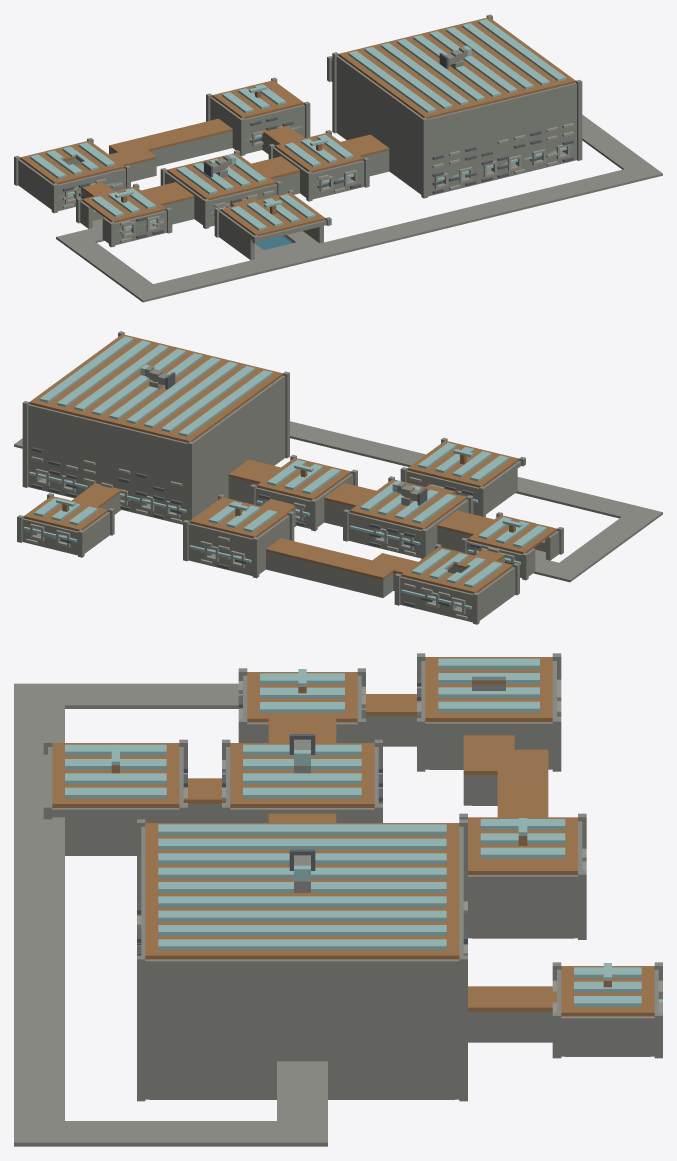
Rendered from cliff_observatory.glb.
3 renders of one model, top to bottom at view 1: azimuth 30°, elevation 25°; view 2: azimuth 150°, elevation 25°; view 3: azimuth 270°, elevation 25°, orthographic. The views are drawn at different scales.
Parts seen in each view (by area): view 1: cliff_observatory/room_walls, cliff_observatory/roof_arena, cliff_observatory/floor_mesh, cliff_observatory/exterior_details, cliff_observatory/corridor_walls, cliff_observatory/roof_workshop, cliff_observatory/roof_cistern, cliff_observatory/roof_production, cliff_observatory/roof_weather_deck, cliff_observatory/roof_antechamber, cliff_observatory/roof_entrance, cliff_observatory/corridor_roof_8 (+4 smaller); view 2: cliff_observatory/room_walls, cliff_observatory/roof_arena, cliff_observatory/exterior_details, cliff_observatory/floor_mesh, cliff_observatory/corridor_walls, cliff_observatory/roof_workshop, cliff_observatory/roof_cistern, cliff_observatory/roof_production, cliff_observatory/roof_weather_deck, cliff_observatory/roof_antechamber, cliff_observatory/corridor_roof_8, cliff_observatory/roof_entrance (+6 smaller); view 3: cliff_observatory/room_walls, cliff_observatory/roof_arena, cliff_observatory/floor_mesh, cliff_observatory/exterior_details, cliff_observatory/roof_workshop, cliff_observatory/roof_cistern, cliff_observatory/roof_production, cliff_observatory/roof_weather_deck, cliff_observatory/corridor_walls, cliff_observatory/roof_entrance, cliff_observatory/roof_archive, cliff_observatory/corridor_roof_8 (+6 smaller).
Part boxes in pixels (x1=…): cliff_observatory/room_walls: x1=18, y1=56, x2=576, y2=260; cliff_observatory/roof_arena: x1=338, y1=17, x2=575, y2=118; cliff_observatory/floor_mesh: x1=56, y1=115, x2=662, y2=302; cliff_observatory/exterior_details: x1=14, y1=14, x2=582, y2=247; cliff_observatory/corridor_walls: x1=81, y1=131, x2=389, y2=224; cliff_observatory/roof_workshop: x1=167, y1=153, x2=275, y2=200; cliff_observatory/roof_cistern: x1=221, y1=192, x2=325, y2=236; cliff_observatory/roof_production: x1=20, y1=140, x2=124, y2=184; cliff_observatory/roof_weather_deck: x1=212, y1=80, x2=303, y2=118; cliff_observatory/roof_antechamber: x1=275, y1=132, x2=362, y2=172; cliff_observatory/roof_entrance: x1=82, y1=186, x2=165, y2=222; cliff_observatory/corridor_roof_8: x1=109, y1=118, x2=232, y2=152; cliff_observatory/room_walls: x1=22, y1=375, x2=559, y2=622; cliff_observatory/roof_arena: x1=29, y1=334, x2=282, y2=442; cliff_observatory/exterior_details: x1=17, y1=331, x2=563, y2=624; cliff_observatory/floor_mesh: x1=14, y1=421, x2=662, y2=608; cliff_observatory/corridor_walls: x1=100, y1=476, x2=505, y2=597; cliff_observatory/roof_workshop: x1=350, y1=479, x2=466, y2=529; cliff_observatory/roof_cistern: x1=407, y1=440, x2=519, y2=487; cliff_observatory/roof_production: x1=401, y1=547, x2=512, y2=593; cliff_observatory/roof_weather_deck: x1=190, y1=497, x2=287, y2=538; cliff_observatory/roof_antechamber: x1=257, y1=457, x2=350, y2=500; cliff_observatory/corridor_roof_8: x1=266, y1=538, x2=397, y2=579; cliff_observatory/roof_entrance: x1=468, y1=515, x2=556, y2=553; cliff_observatory/room_walls: x1=48, y1=661, x2=658, y2=1099; cliff_observatory/roof_arena: x1=145, y1=823, x2=459, y2=959; cliff_observatory/floor_mesh: x1=14, y1=683, x2=649, y2=1146; cliff_observatory/exterior_details: x1=43, y1=653, x2=662, y2=1101; cliff_observatory/roof_workshop: x1=230, y1=734, x2=374, y2=807; cliff_observatory/roof_cistern: x1=52, y1=743, x2=179, y2=807; cliff_observatory/roof_production: x1=425, y1=657, x2=552, y2=721; cliff_observatory/roof_weather_deck: x1=468, y1=817, x2=577, y2=874; cliff_observatory/corridor_walls: x1=188, y1=715, x2=552, y2=1042; cliff_observatory/roof_entrance: x1=247, y1=669, x2=357, y2=722; cliff_observatory/roof_archive: x1=561, y1=963, x2=654, y2=1016; cliff_observatory/corridor_roof_8: x1=497, y1=749, x2=548, y2=817.
Bounding box in the file's own units: 128 × 24 × 76.5.
